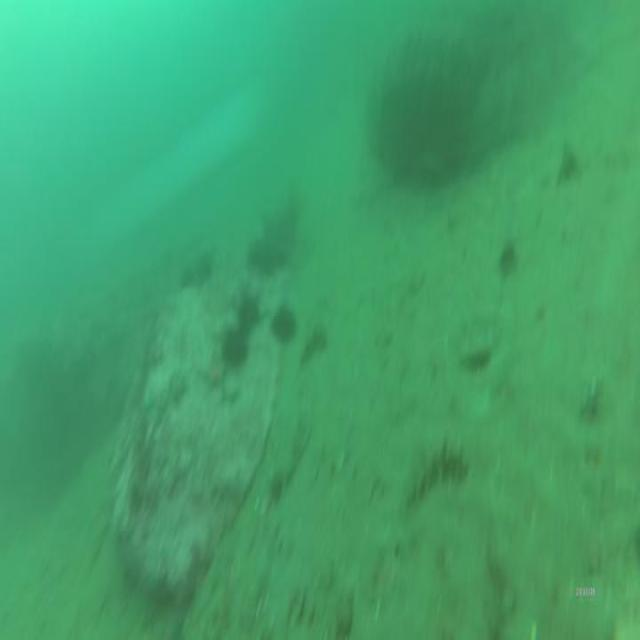echinus: (221, 321, 251, 371), (270, 304, 299, 348)
holothurian: (404, 434, 468, 502)
